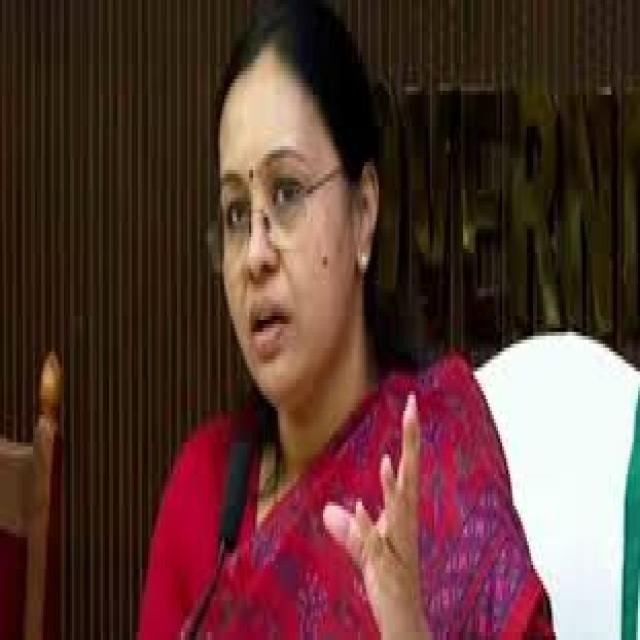person-without-mask: (50, 2, 579, 640)
